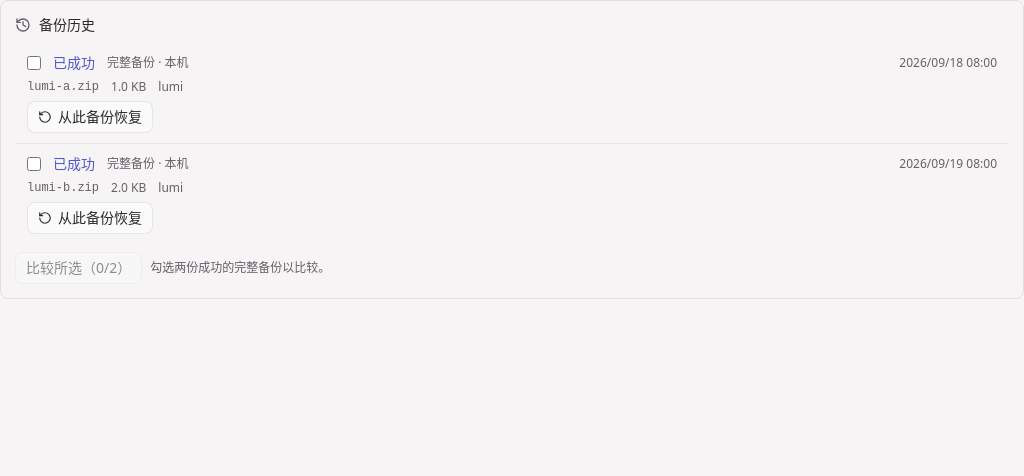
Test: F115 备份比较 › F115: 勾选两份 → 比较 → 差异分类渲染 + incomparable 诚实
The image size is (1024, 476).
Check: the heading "备份历史" is shown, box [15,15,95,34]
Click the checkbox named "选择比较 job-a" at (34, 63), box [27,56,41,70]
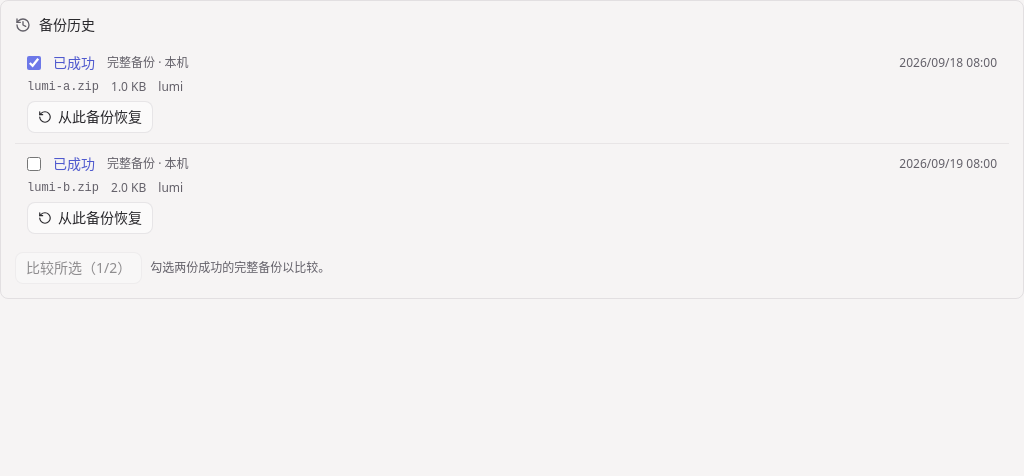
Check: the button "比较所选（1/2）" is disabled, box [15,252,142,284]
Check: the text "勾选两份成功的完整备份以比较。" is shown, box [150,260,330,276]
Click the checkbox named "选择比较 job-b" at (34, 164), box [27,157,41,171]
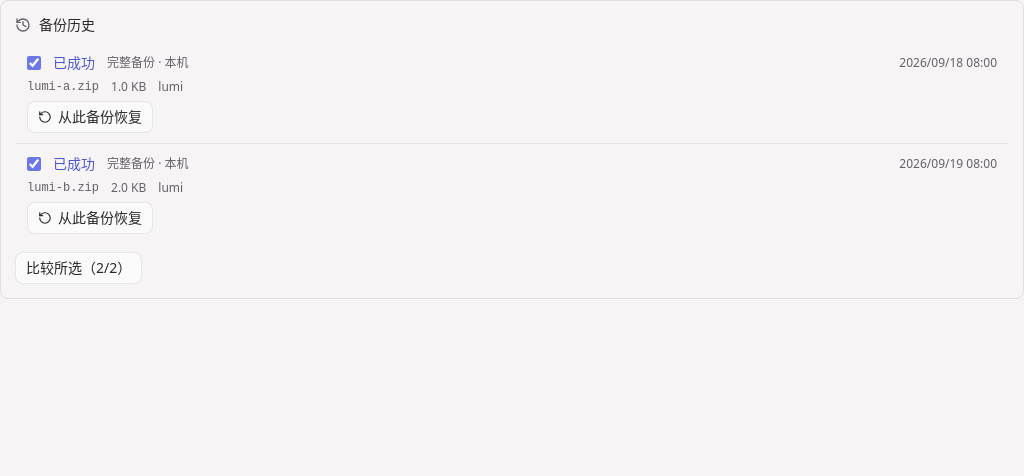
Click the button "比较所选（2/2）" at (79, 268), box [15,252,142,284]
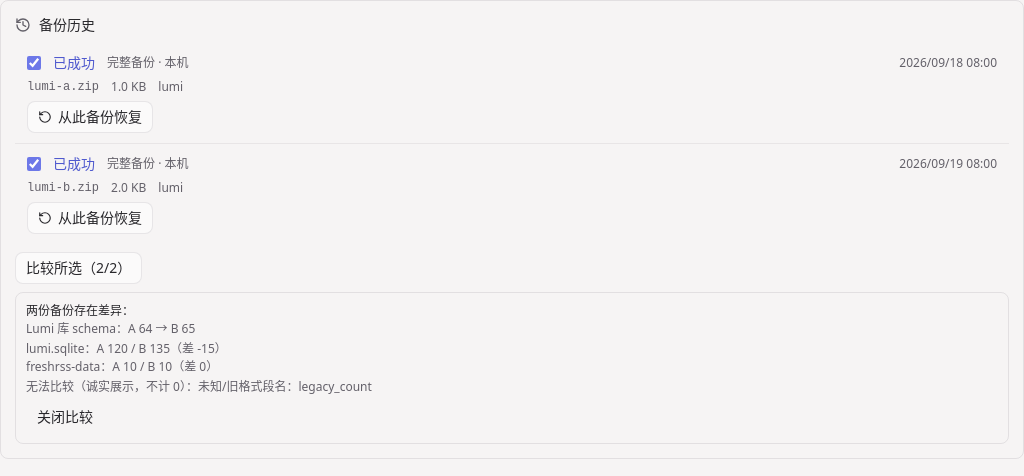
Check: the element that starts with "两份备份存在差异：" is shown, box [26,302,134,319]
Check: the list item "lumi.sqlite：A 120 / B 135（差 -15）" is shown, box [26,340,227,357]
Check: the element that starts with "两份备份存在差异：" shows "schema：A 64 → B 65", box [15,292,1009,444]
